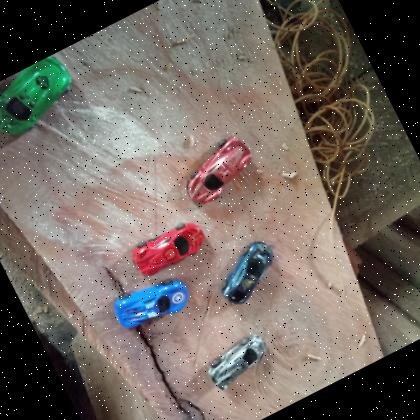Car: (0, 51, 85, 143), (173, 130, 264, 210), (108, 266, 196, 340), (126, 212, 212, 282), (208, 236, 288, 310), (200, 330, 278, 395)
